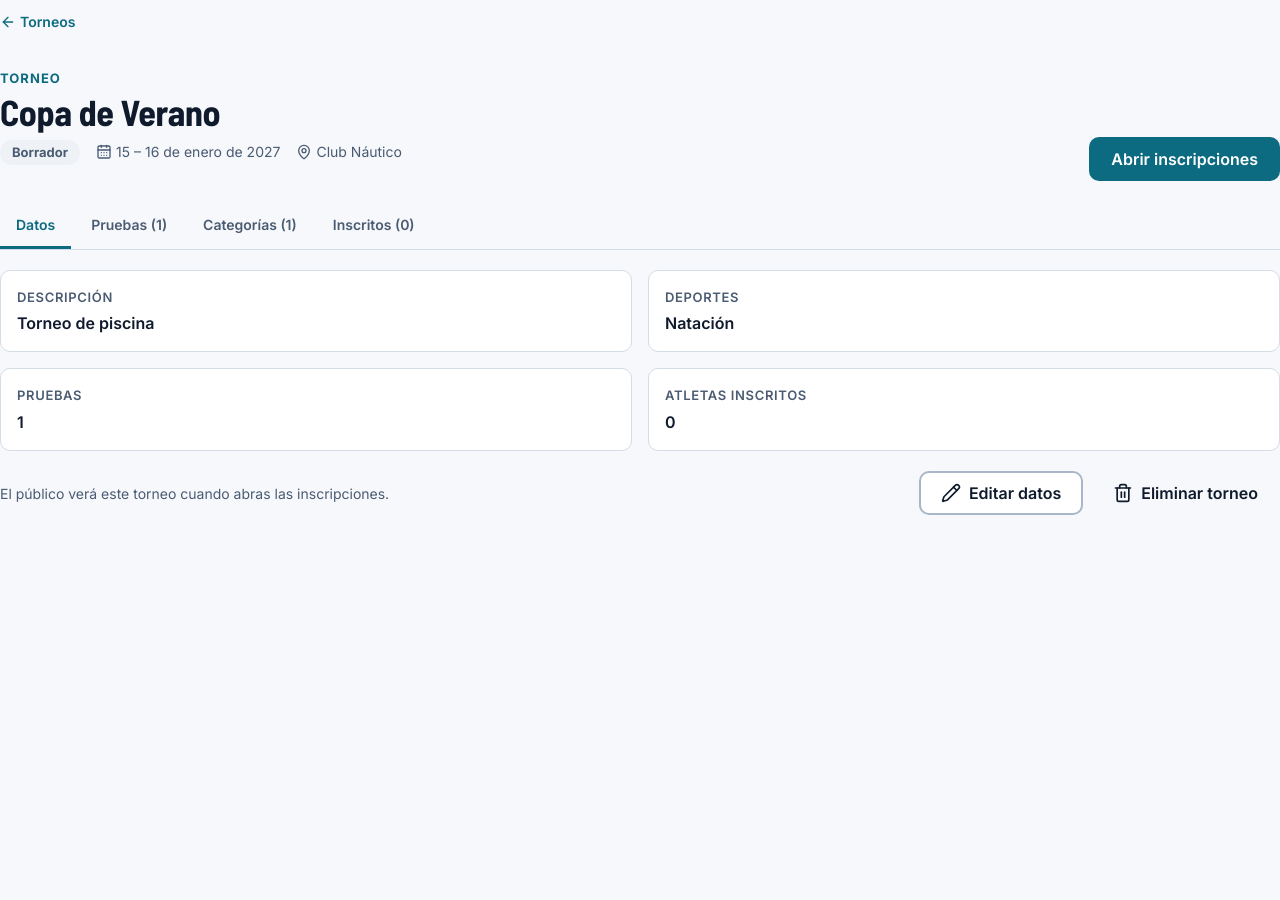
TorneoDetallePage › muestra el motivo si no se puede eliminar
This screenshot has width=1280, height=900.
Expected: the heading "Copa de Verano" is shown, [0,90,220,133]
Click the button "Eliminar torneo" at (1186, 493), box [1091,471,1279,515]
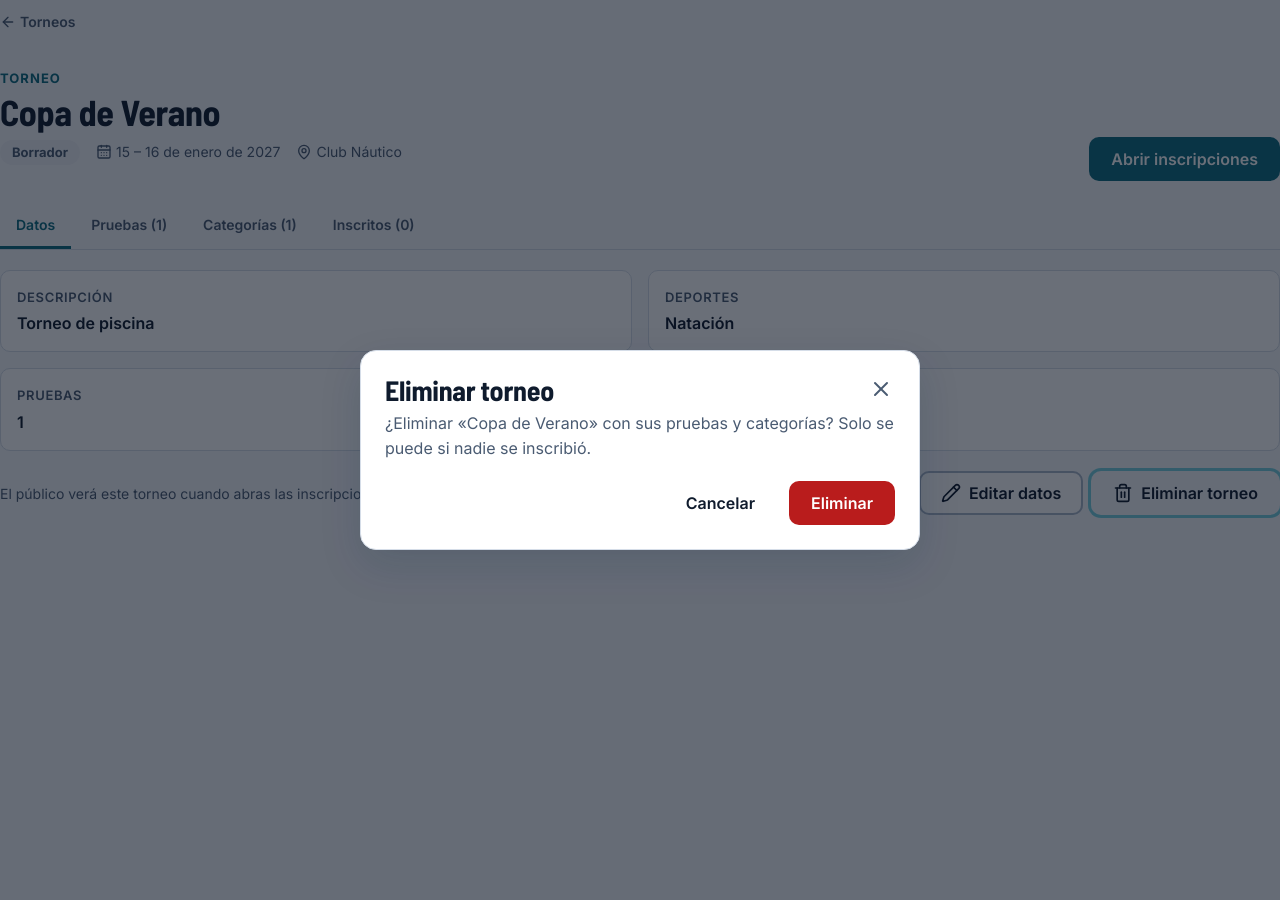
Click the button "Eliminar" at (842, 503), box [789,481,895,525]
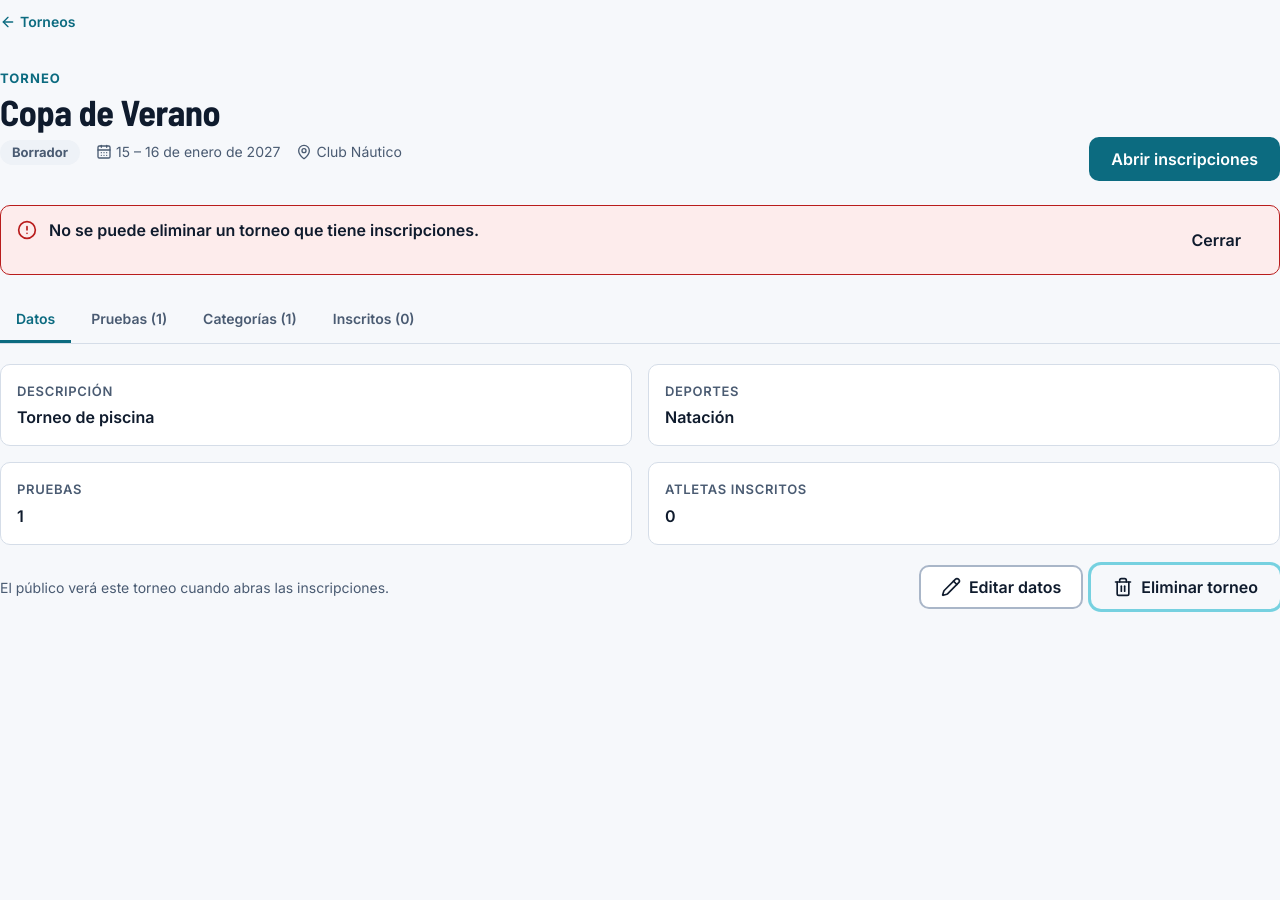
Now the text "No se puede eliminar un torneo que tiene inscripciones." is shown, box [49,220,479,240]
